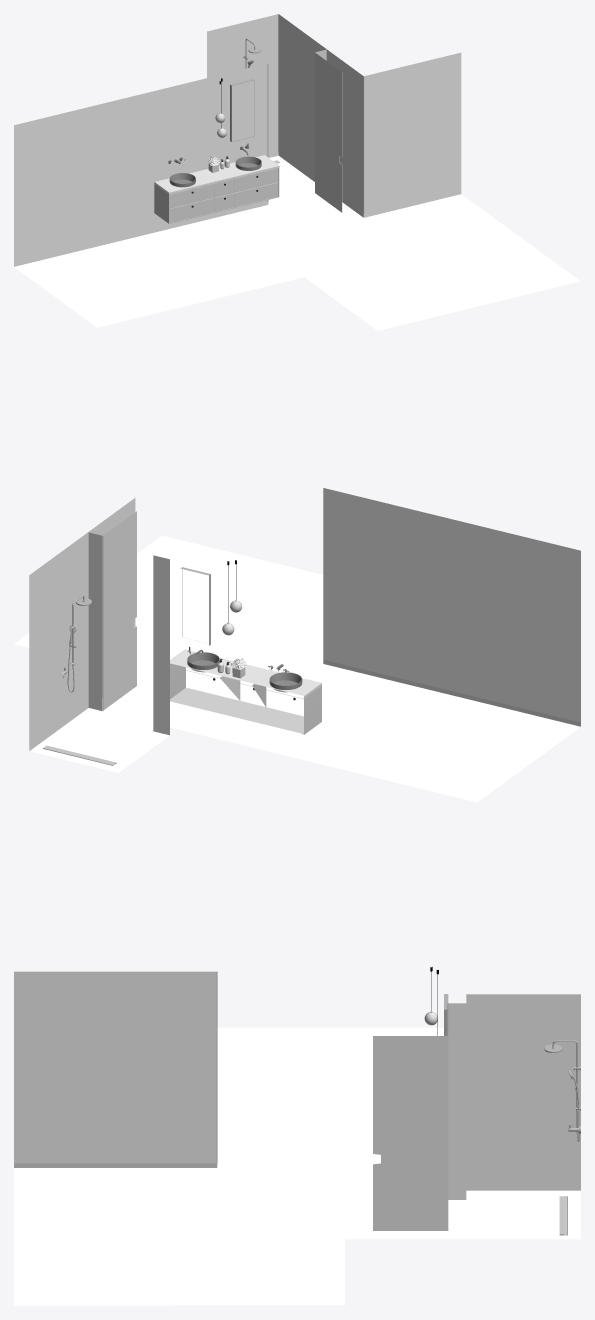
The picture shows the model from 3 angles, top to bottom: view 1: azimuth 30°, elevation 25°; view 2: azimuth 150°, elevation 25°; view 3: azimuth 270°, elevation 25°; orthographic projection. The views are drawn at different scales.
Visible parts, largest first — view 1: wall_front1_primitive0, floor_celling_primitive1, doors, table_primitive2, wall_front1_primitive1, lamps_primitive4, table_primitive1, sink; view 2: floor_celling_primitive1, wall_back2_primitive0, wall_front1_primitive0, doors, table_primitive2, wall, table_primitive1, wall_back2_primitive1, sink; view 3: floor_celling_primitive1, wall_back2_primitive0, wall_front1_primitive0, doors, wall_back2_primitive1, wall_front1_primitive1, shower11_primitive0.
Boxes of the visible parts, <box> form: wall_front1_primitive0: <box>14,14,461,263</box>; floor_celling_primitive1: <box>14,155,580,330</box>; doors: <box>315,52,342,212</box>; table_primitive2: <box>154,168,279,223</box>; wall_front1_primitive1: <box>14,152,461,266</box>; lamps_primitive4: <box>232,80,254,141</box>; table_primitive1: <box>154,155,279,194</box>; sink: <box>169,156,261,187</box>; floor_celling_primitive1: <box>14,535,580,802</box>; wall_back2_primitive0: <box>323,488,580,722</box>; wall_front1_primitive0: <box>29,498,169,746</box>; doors: <box>103,511,136,710</box>; table_primitive2: <box>170,663,321,734</box>; wall: <box>88,532,102,711</box>; table_primitive1: <box>170,649,321,697</box>; wall_back2_primitive1: <box>323,660,580,726</box>; sink: <box>187,652,302,692</box>; floor_celling_primitive1: <box>14,1027,580,1305</box>; wall_back2_primitive0: <box>14,971,216,1163</box>; wall_front1_primitive0: <box>448,994,580,1195</box>; doors: <box>373,1036,448,1230</box>; wall_back2_primitive1: <box>14,1163,217,1167</box>; wall_front1_primitive1: <box>448,1186,580,1199</box>; shower11_primitive0: <box>544,1040,580,1141</box>.
Bounding box in the file's own units: 7.28 × 2.4 × 6.28.
31 materials, 10 textured.
